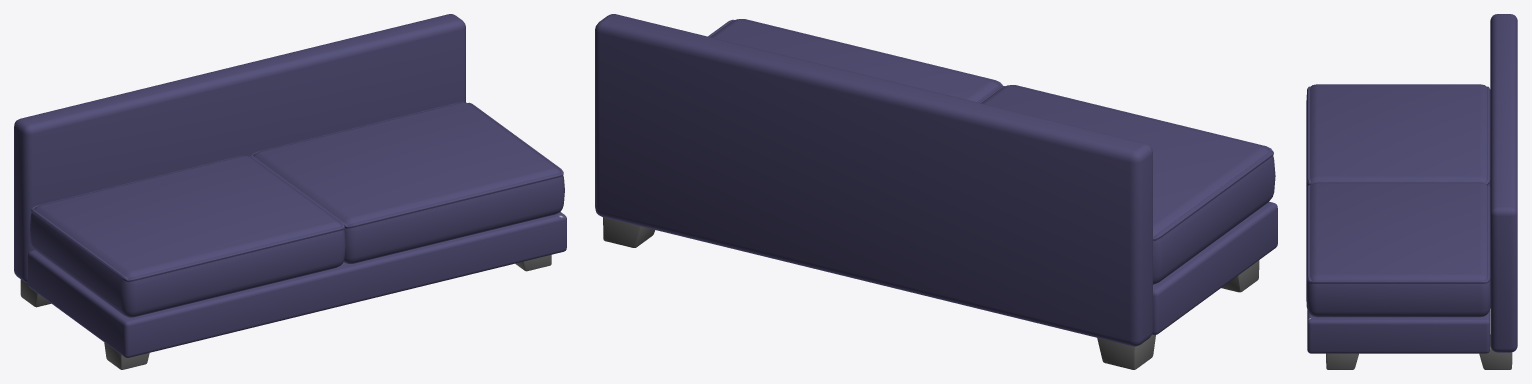
File: Couch.glb
3 renders of one model, left to right at view 1: azimuth 30°, elevation 25°; view 2: azimuth 150°, elevation 25°; view 3: azimuth 270°, elevation 25°, orthographic. The views are drawn at different scales.
Visible parts, largest first — view 1: Couch; view 2: Couch; view 3: Couch.
Boxes of the visible parts, x1=… form: Couch: x1=14, y1=14, x2=566, y2=369; Couch: x1=595, y1=14, x2=1277, y2=369; Couch: x1=1306, y1=14, x2=1517, y2=369.
Bounding box in the file's own units: 2.01 × 0.7732 × 0.9069.
1 material, 1 textured.
